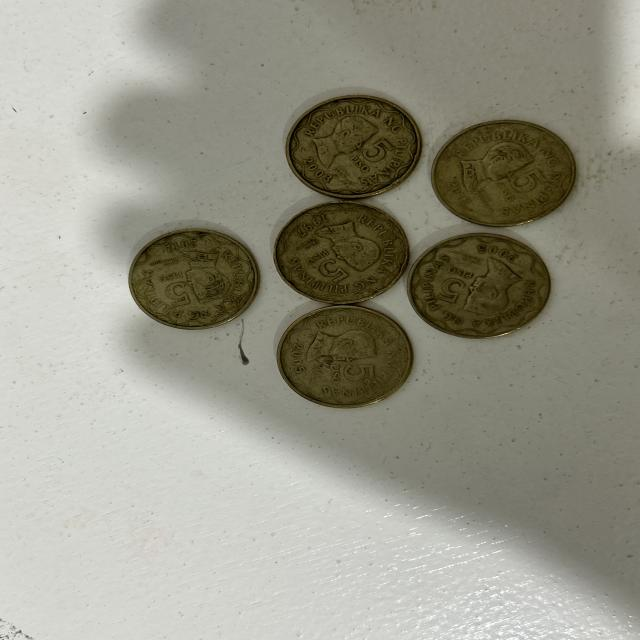5_Old_Front: (487, 163, 552, 205), (322, 352, 381, 394), (302, 247, 356, 290), (434, 252, 474, 308), (150, 266, 198, 310), (347, 136, 395, 178)
